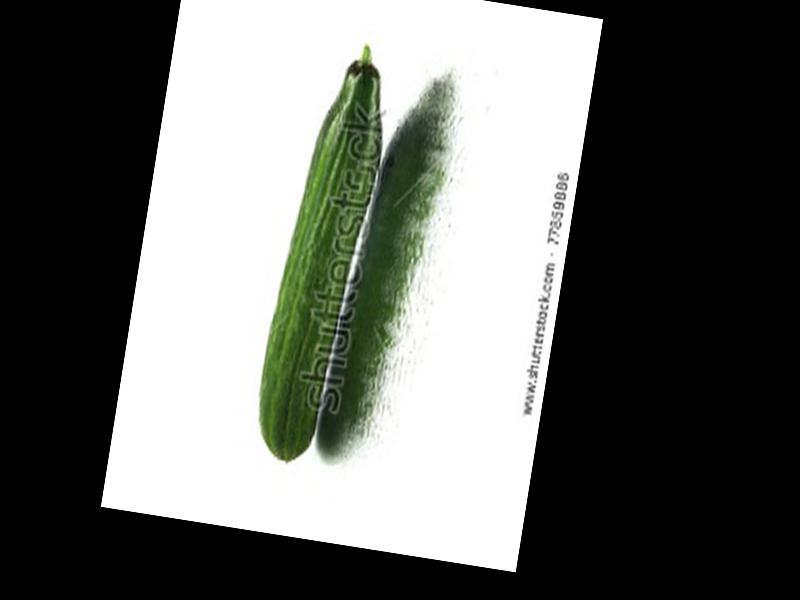Cucumber: (248, 38, 397, 465)
